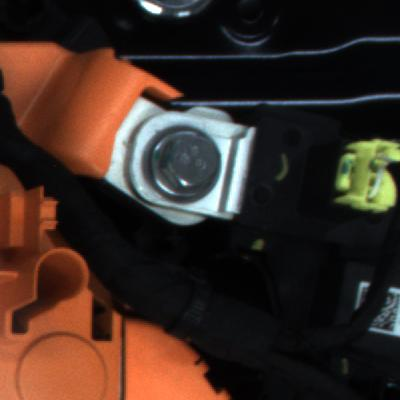nut_b: (142, 120, 226, 209)
